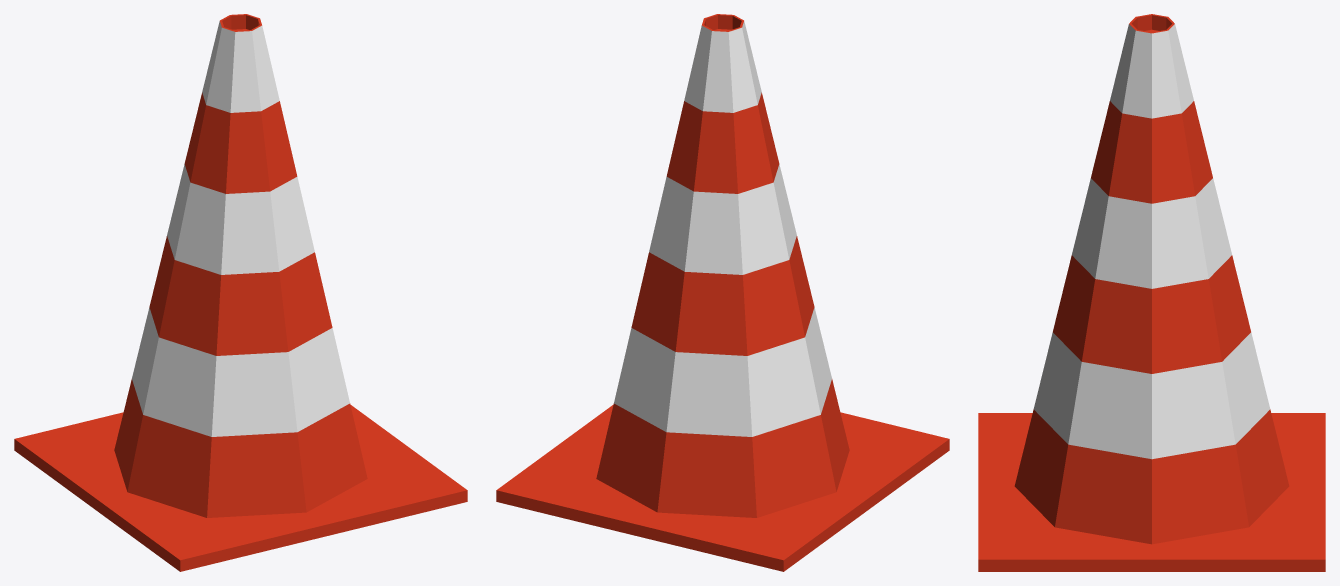
The model's file is plot2.fbx.
3 views of the same model, side by side, from view 1: azimuth 30°, elevation 25°; view 2: azimuth 150°, elevation 25°; view 3: azimuth 270°, elevation 25° (orthographic). The views are drawn at different scales.
Visible parts, largest first — view 1: plot2; view 2: plot2; view 3: plot2.
Part boxes in pixels (x1,y1,x2,y2): plot2: (14,14,467,571); plot2: (496,14,949,571); plot2: (978,14,1325,571).
Size of the model in its own units: 26.5 by 39.94 by 26.5.
